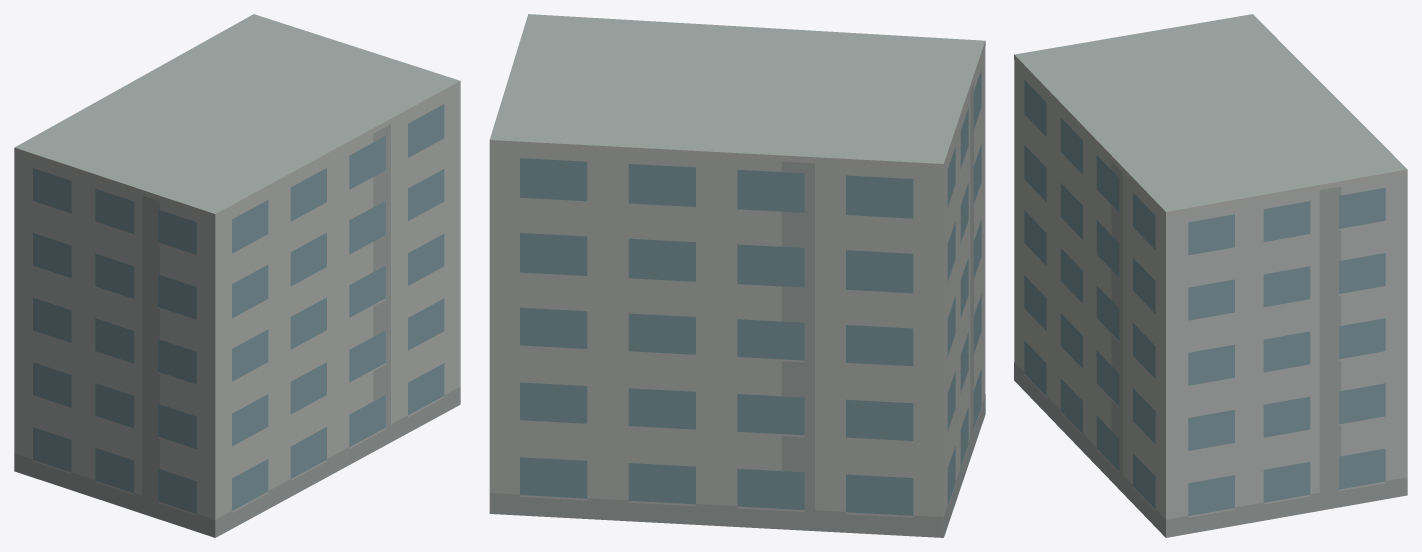
The model's file is survey-upis-32843027.glb.
3 views of the same model, side by side, from view 1: azimuth 30°, elevation 25°; view 2: azimuth 150°, elevation 25°; view 3: azimuth 270°, elevation 25° (orthographic). The views are drawn at different scales.
Parts seen in each view (by area): view 1: survey-upis-32843027.tmp; view 2: survey-upis-32843027.tmp; view 3: survey-upis-32843027.tmp.
Boxes of the visible parts, x1,y1,x2,y2 form: survey-upis-32843027.tmp: (14,14,460,537); survey-upis-32843027.tmp: (489,14,985,537); survey-upis-32843027.tmp: (1014,14,1407,537).
Size of the model in its own units: 19.28 by 14.8 by 16.2.
